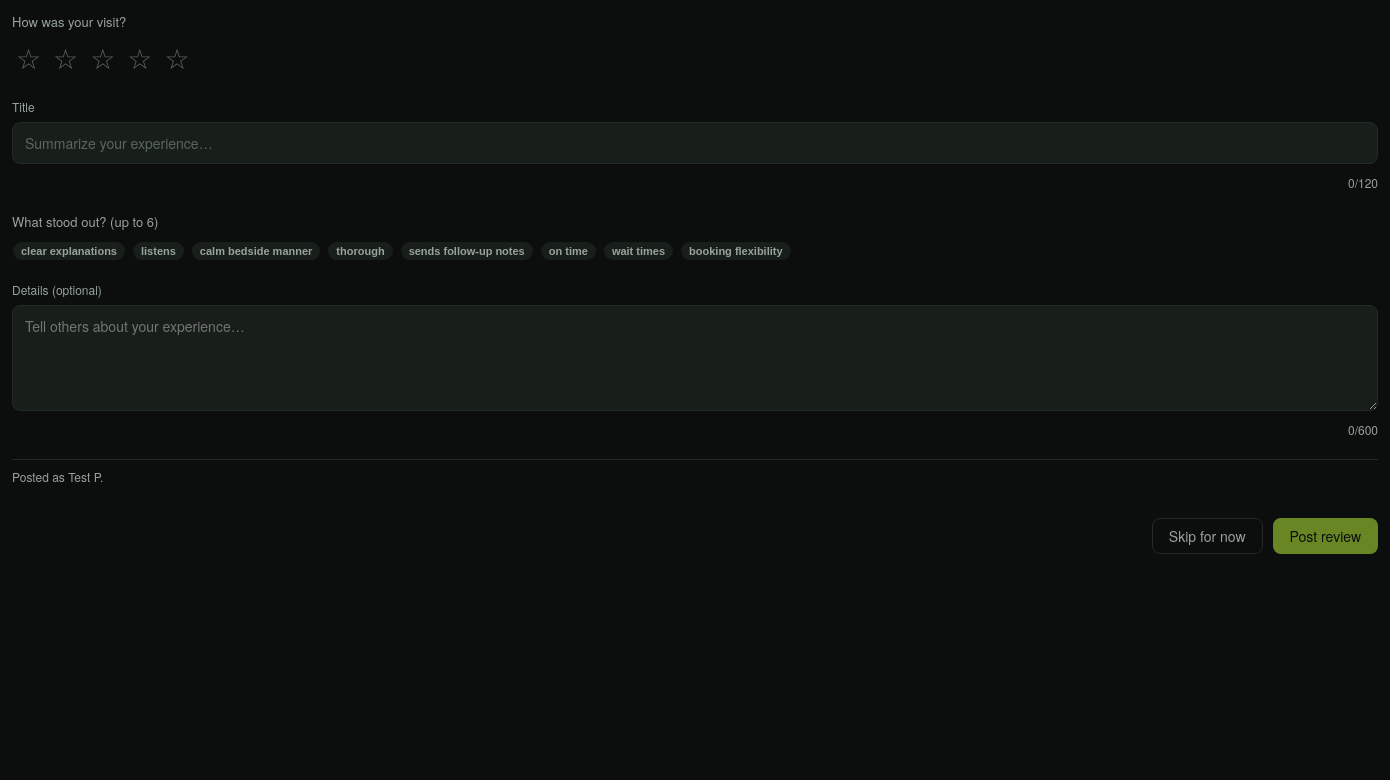
it: ReviewForm › enables submit when rating and title filled
# Click 4 stars
Click the button named "4 stars" at (140, 60), box [123,42,156,78]
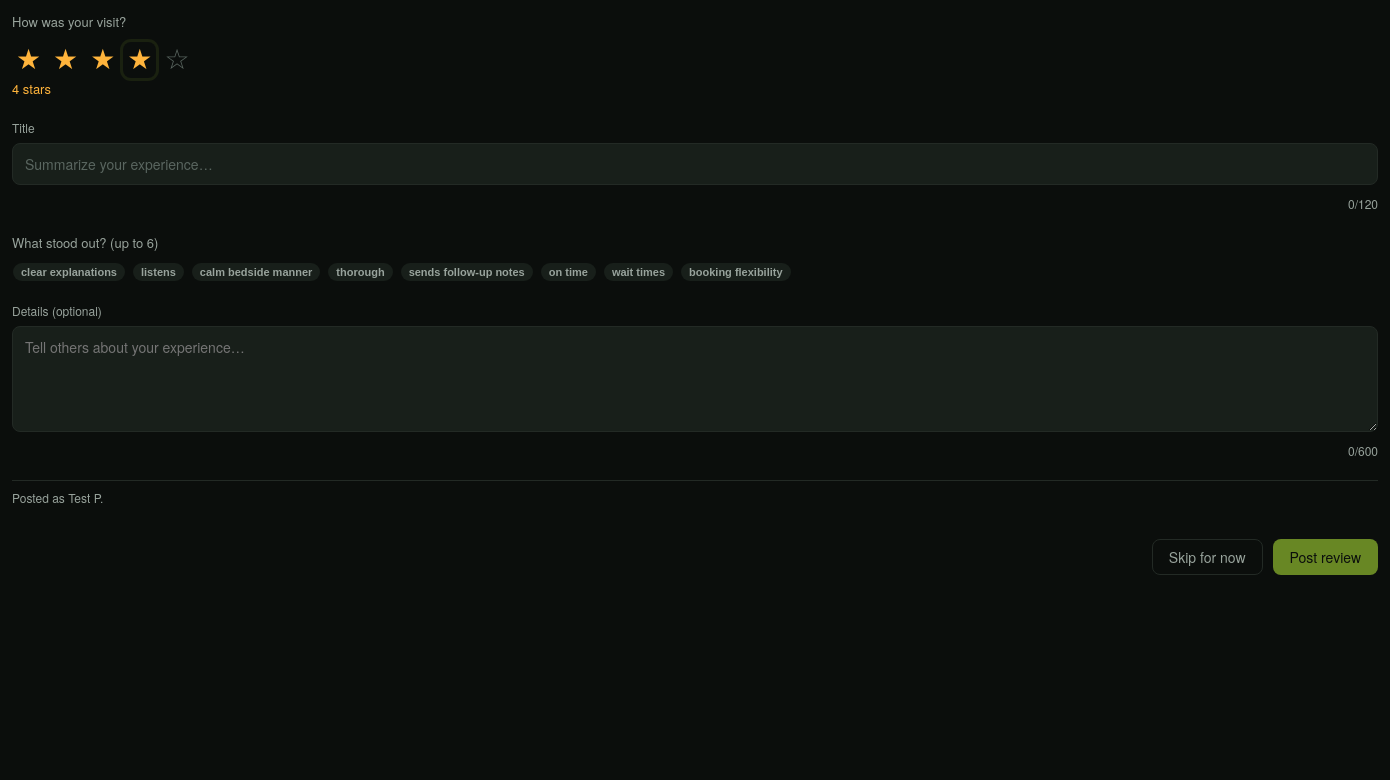
Type "Great visit" into the field with placeholder "Summarize your experience…" at (695, 164), box [12,142,1378,184]
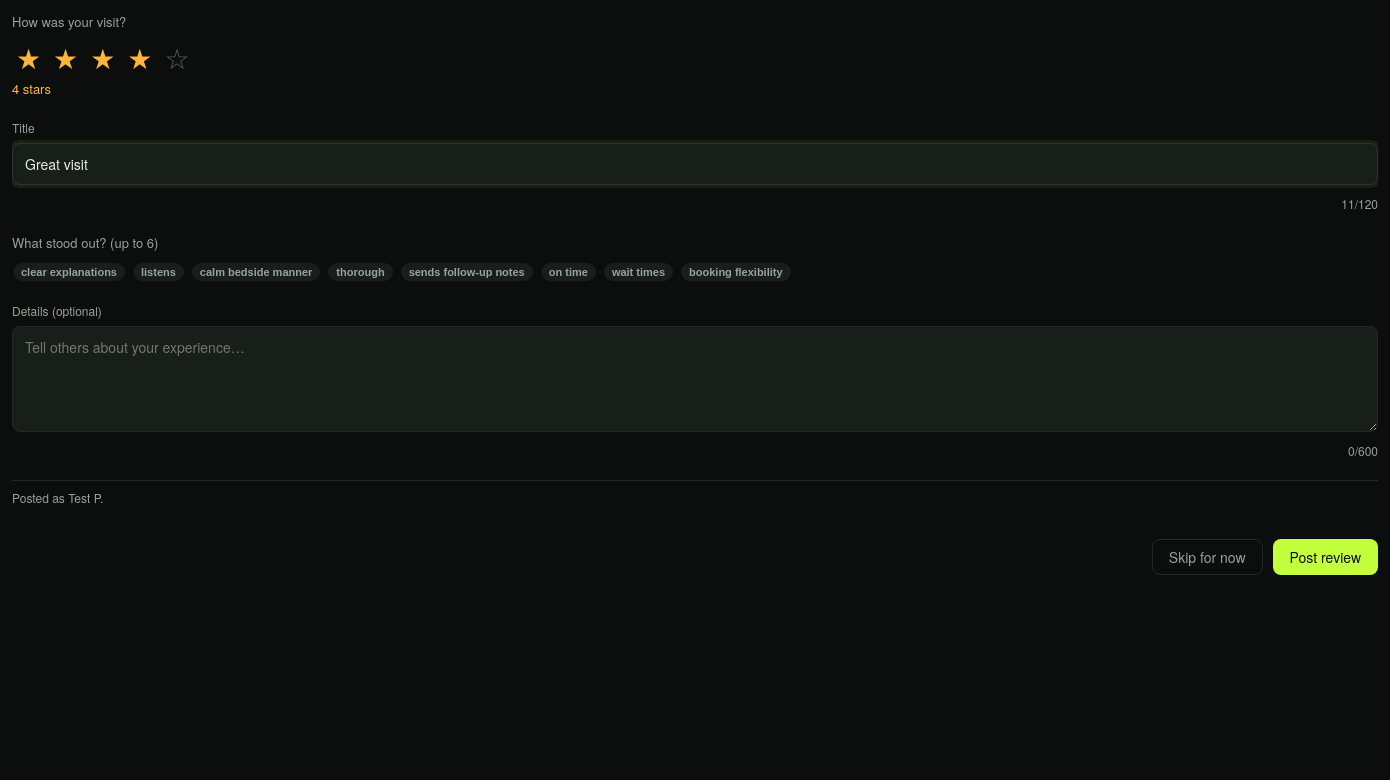
Expected: the button "Post review" is enabled, [1272,539,1378,575]
